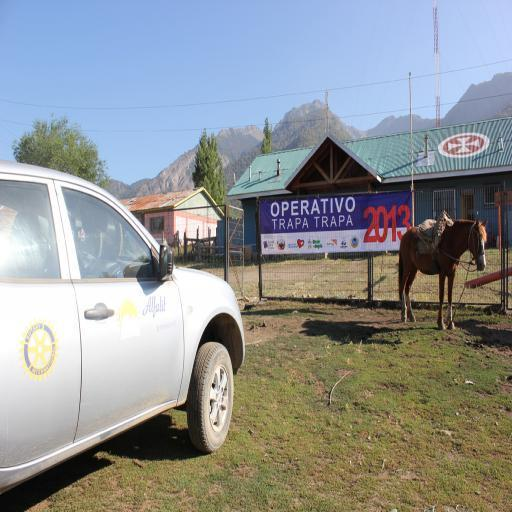horse: (399, 216, 487, 330)
